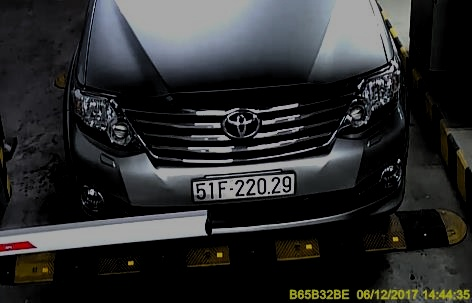plate: (190, 173, 297, 203)
